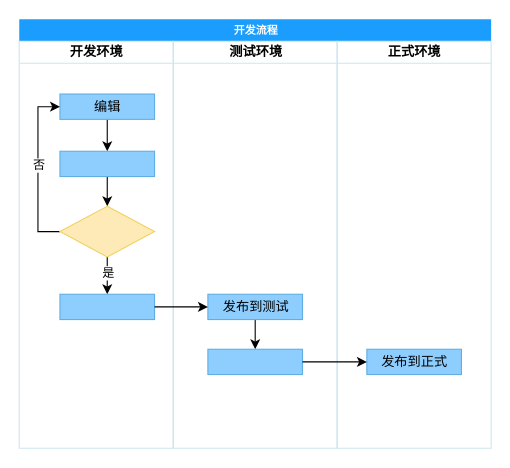
This 510x468 diagram has some shape labels left out. Here are the shapes that lost their labels. From the top down, the centre of each, then its label:
At (107,163): "预览".
At (107,231): "完成需求".
At (107,306): "保存".
At (254,361): "测试完成".
